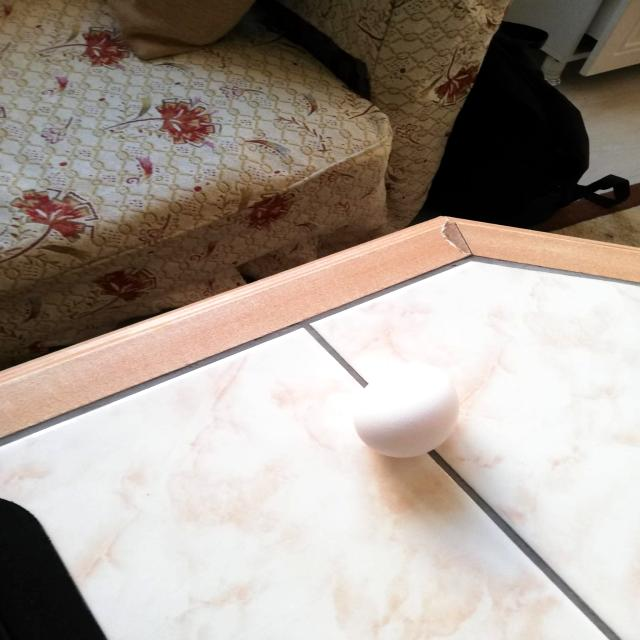egg: (344, 358, 470, 462)
